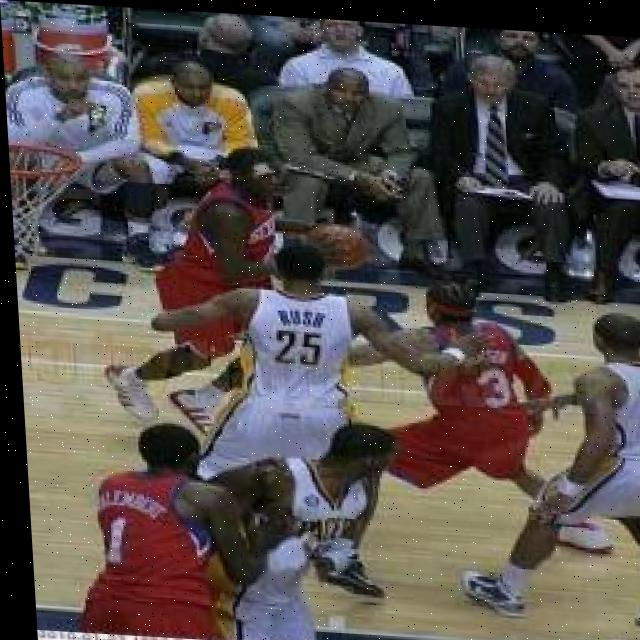basketball: (309, 220, 370, 274)
hoop: (8, 140, 91, 267)
